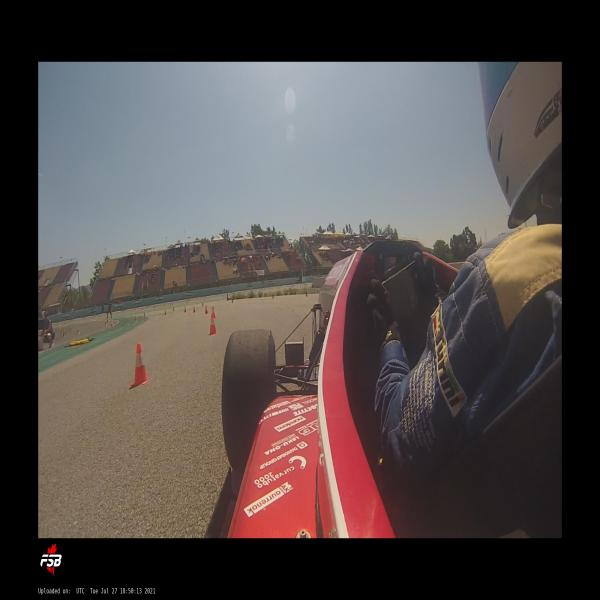orange_cone: (130, 343, 152, 386), (209, 314, 216, 336), (212, 306, 216, 319), (205, 305, 208, 314), (193, 305, 195, 313), (110, 321, 113, 326), (184, 305, 186, 312), (135, 315, 137, 321), (164, 310, 166, 316)
yellow_cone: (77, 329, 80, 334), (104, 321, 107, 326), (272, 293, 274, 299), (306, 291, 308, 296), (232, 298, 234, 303)
